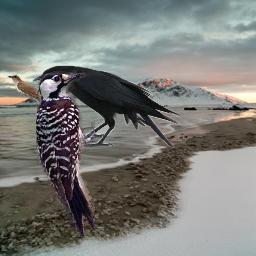Crow: (32, 65, 182, 148)
Cuckoo: (6, 75, 41, 101)
Woodpecker: (36, 70, 95, 237)
